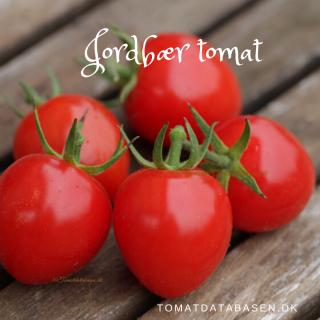Tomat: (1, 96, 130, 286), (113, 119, 235, 300)
